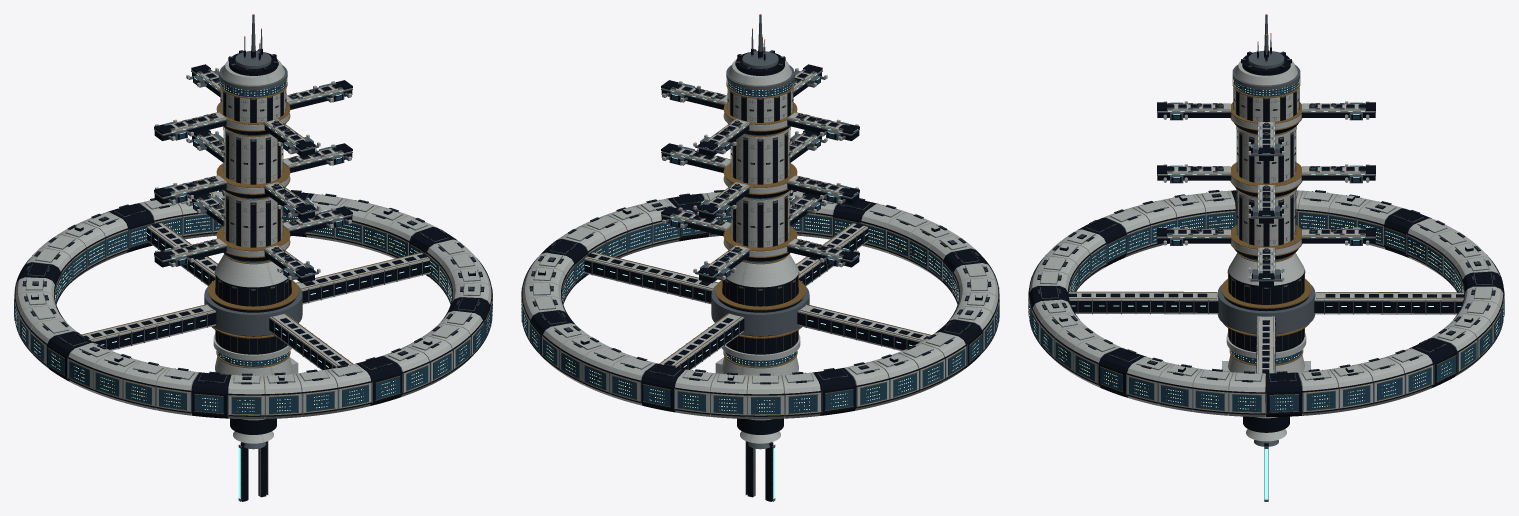
Rendered from meridian_exchange.glb.
3 renders of one model, left to right at view 1: azimuth 30°, elevation 25°; view 2: azimuth 150°, elevation 25°; view 3: azimuth 270°, elevation 25°, orthographic.
Parts seen in each view (by area): view 1: Habitat_Meridian_Pearl, Habitat_Meridian_Navy, Tower_Meridian_Navy, Tower_Meridian_Pearl, Habitat_Meridian_Glass, Habitat_Meridian_Silver, Tower_Meridian_Silver, Tower_Meridian_Champagne, Habitat_Meridian_Champagne, Tower_Meridian_Glass, Detail_fixed_Meridian_Silver, Habitat_Meridian_CoolWindows (+2 smaller); view 2: Habitat_Meridian_Pearl, Habitat_Meridian_Navy, Tower_Meridian_Navy, Tower_Meridian_Pearl, Habitat_Meridian_Glass, Habitat_Meridian_Silver, Tower_Meridian_Silver, Tower_Meridian_Champagne, Habitat_Meridian_Champagne, Tower_Meridian_Glass, Detail_fixed_Meridian_Silver, Habitat_Meridian_CoolWindows (+2 smaller); view 3: Habitat_Meridian_Pearl, Habitat_Meridian_Navy, Tower_Meridian_Pearl, Tower_Meridian_Navy, Habitat_Meridian_Glass, Habitat_Meridian_Silver, Tower_Meridian_Champagne, Tower_Meridian_Silver, Habitat_Meridian_Champagne, Detail_fixed_Meridian_Silver, Tower_Meridian_Glass, Habitat_Meridian_CoolWindows (+2 smaller).
Boxes of the visible parts, x1,y1,x2,y2 form: Habitat_Meridian_Pearl: [15, 190, 491, 419]; Habitat_Meridian_Navy: [14, 189, 492, 418]; Tower_Meridian_Navy: [154, 49, 352, 501]; Tower_Meridian_Pearl: [155, 59, 352, 443]; Habitat_Meridian_Glass: [14, 213, 492, 414]; Habitat_Meridian_Silver: [14, 190, 492, 416]; Tower_Meridian_Silver: [154, 14, 352, 501]; Tower_Meridian_Champagne: [169, 70, 342, 368]; Habitat_Meridian_Champagne: [14, 212, 492, 417]; Tower_Meridian_Glass: [179, 79, 341, 366]; Detail_fixed_Meridian_Silver: [164, 68, 342, 270]; Habitat_Meridian_CoolWindows: [15, 216, 492, 411]; Habitat_Meridian_Pearl: [522, 190, 998, 419]; Habitat_Meridian_Navy: [521, 189, 999, 416]; Tower_Meridian_Navy: [661, 47, 859, 501]; Tower_Meridian_Pearl: [661, 59, 858, 443]; Habitat_Meridian_Glass: [521, 213, 999, 414]; Habitat_Meridian_Silver: [521, 190, 999, 416]; Tower_Meridian_Silver: [661, 14, 859, 501]; Tower_Meridian_Champagne: [671, 70, 844, 368]; Habitat_Meridian_Champagne: [521, 212, 999, 417]; Tower_Meridian_Glass: [672, 79, 834, 366]; Detail_fixed_Meridian_Silver: [671, 68, 849, 270]; Habitat_Meridian_CoolWindows: [521, 216, 997, 411]; Habitat_Meridian_Pearl: [1029, 190, 1503, 416]; Habitat_Meridian_Navy: [1029, 190, 1503, 416]; Tower_Meridian_Pearl: [1157, 61, 1375, 441]; Tower_Meridian_Navy: [1157, 47, 1375, 501]; Habitat_Meridian_Glass: [1028, 212, 1504, 412]; Habitat_Meridian_Silver: [1028, 190, 1504, 414]; Tower_Meridian_Champagne: [1167, 77, 1365, 365]; Tower_Meridian_Silver: [1157, 14, 1375, 501]; Habitat_Meridian_Champagne: [1028, 201, 1504, 415]; Detail_fixed_Meridian_Silver: [1168, 89, 1364, 273]; Tower_Meridian_Glass: [1173, 80, 1359, 364]; Habitat_Meridian_CoolWindows: [1028, 215, 1503, 409].
Size of the model in its own units: 1809 by 2016 by 1809.
Materials: 10 (5 with a texture image).
